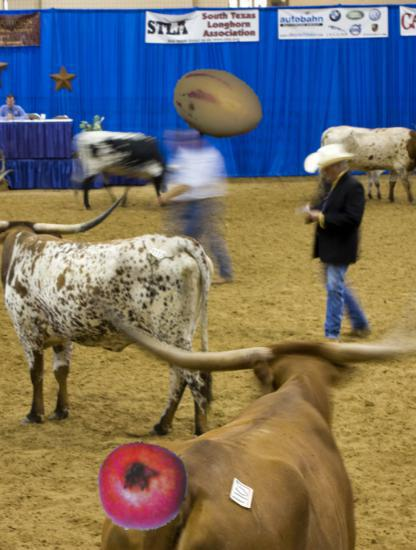Pepino: (170, 58, 264, 152)
Pomegranate: (97, 442, 187, 532)
